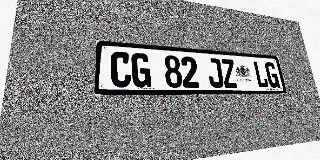2: (180, 56, 199, 88)
8: (163, 55, 183, 87)
C: (110, 51, 131, 87)
G: (131, 53, 151, 87), (264, 62, 280, 88)
J: (206, 58, 224, 88)
L: (253, 61, 269, 88)
Z: (220, 59, 238, 88)
